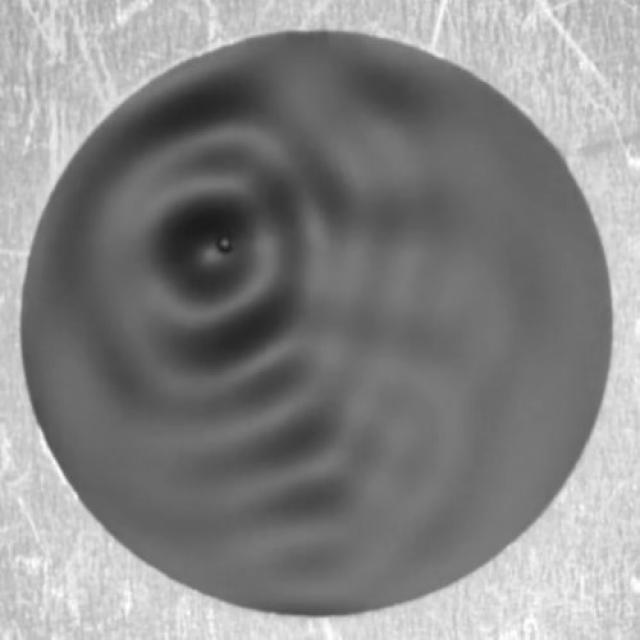droplet: (215, 231, 236, 255)
